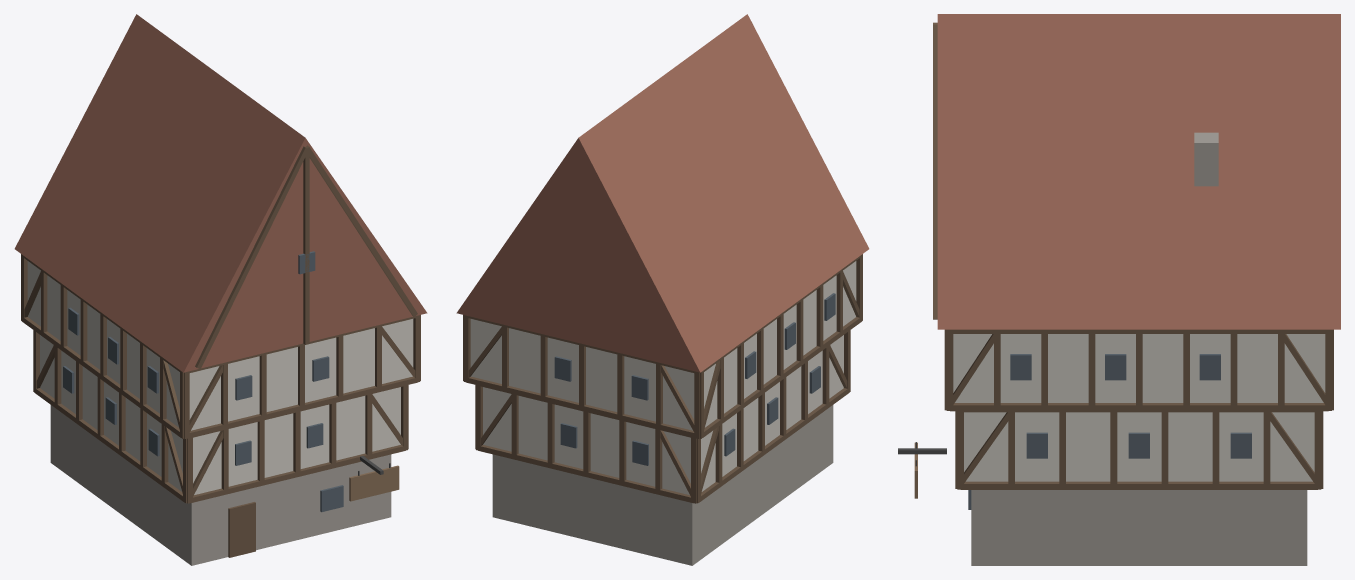
File: m_laden_b.glb
3 views of the same model, side by side, from view 1: azimuth 30°, elevation 25°; view 2: azimuth 150°, elevation 25°; view 3: azimuth 270°, elevation 25° (orthographic). The views are drawn at different scales.
Visible parts, largest first — view 1: koerper; view 2: koerper; view 3: koerper.
Boxes of the visible parts, x1,y1,x2,y2 form: koerper: [14, 14, 427, 565]; koerper: [456, 14, 869, 565]; koerper: [898, 14, 1340, 565].
Bounding box in the file's own units: 11 × 17.84 × 14.5.
